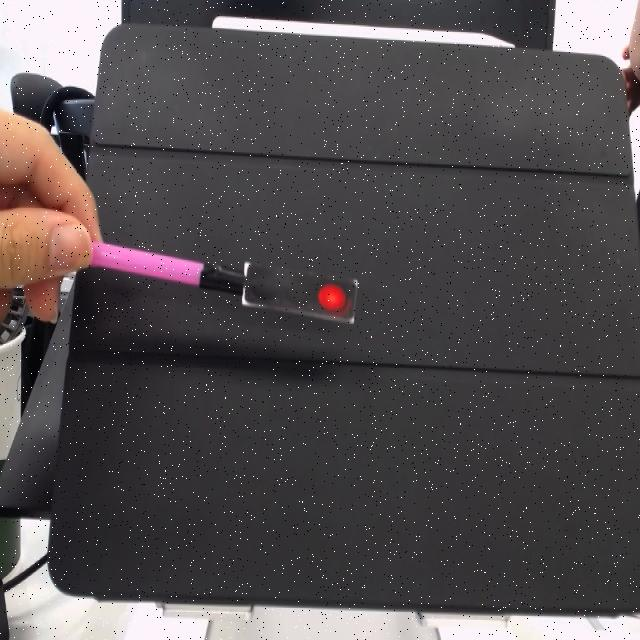traffic light: (236, 261, 363, 328)
